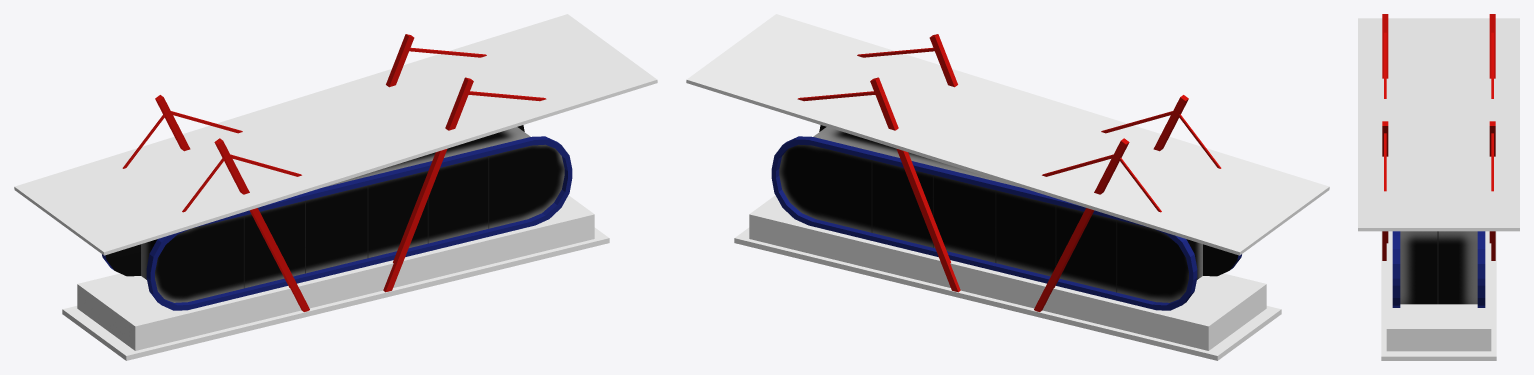
Rendered from Me_Reyavaya.fbx.
The picture shows the model from 3 angles, left to right: view 1: azimuth 30°, elevation 25°; view 2: azimuth 150°, elevation 25°; view 3: azimuth 270°, elevation 25°; orthographic projection. The views are drawn at different scales.
Parts seen in each view (by area): view 1: BusstopSmall; view 2: BusstopSmall; view 3: BusstopSmall.
Part boxes in pixels (<box>): BusstopSmall: <box>14,14,657,360</box>; BusstopSmall: <box>686,14,1329,360</box>; BusstopSmall: <box>1358,14,1519,360</box>.
Bounding box in the file's own units: 687 × 234 × 193.
